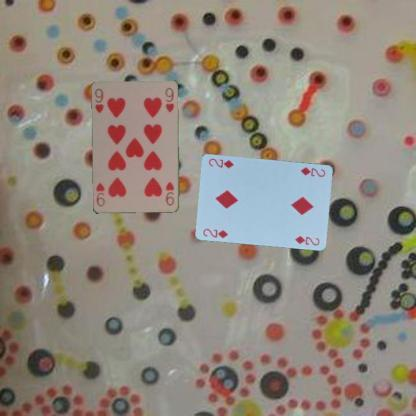2d: (298, 164, 327, 178), (201, 226, 230, 239)
9h: (163, 179, 176, 207), (93, 86, 105, 114)
